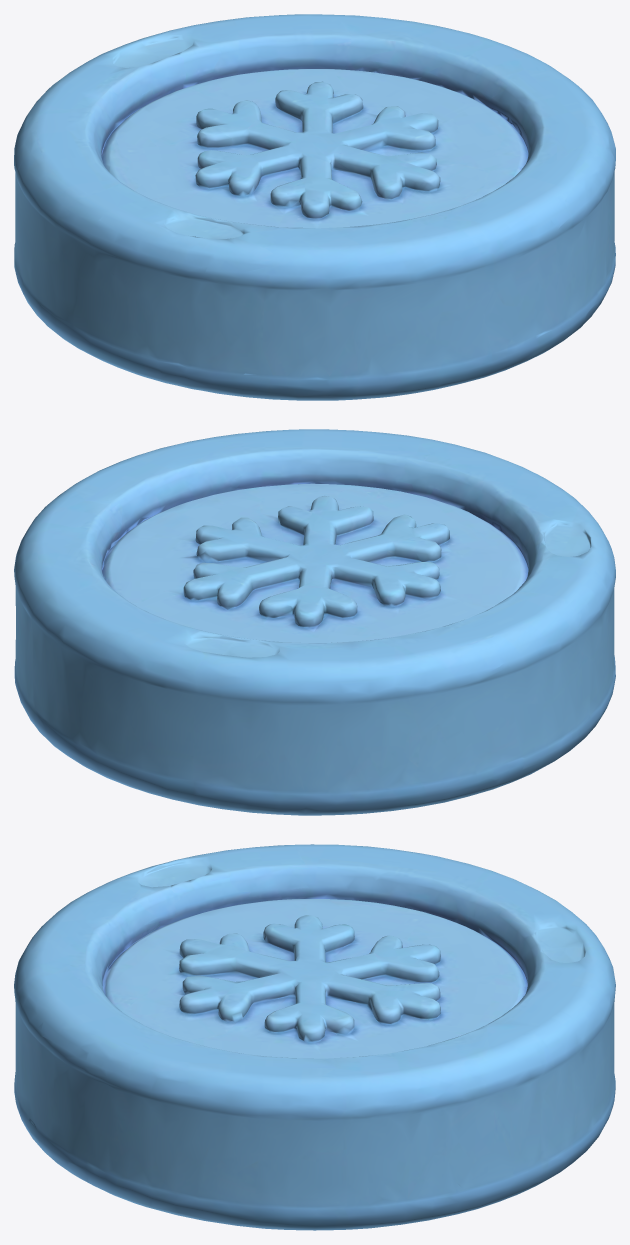
The model's file is puck-snowflake.glb.
The picture shows the model from 3 angles, top to bottom: view 1: azimuth 30°, elevation 25°; view 2: azimuth 150°, elevation 25°; view 3: azimuth 270°, elevation 25°; orthographic projection.
Parts seen in each view (by area): view 1: tripo_node_22e15962-37fa-4f51-b5d6-c7d588227eb2; view 2: tripo_node_22e15962-37fa-4f51-b5d6-c7d588227eb2; view 3: tripo_node_22e15962-37fa-4f51-b5d6-c7d588227eb2.
Boxes of the visible parts, bbox=[...] form: tripo_node_22e15962-37fa-4f51-b5d6-c7d588227eb2: bbox=[14, 14, 615, 400]; tripo_node_22e15962-37fa-4f51-b5d6-c7d588227eb2: bbox=[14, 429, 615, 815]; tripo_node_22e15962-37fa-4f51-b5d6-c7d588227eb2: bbox=[14, 844, 615, 1230].
Size of the model in its own units: 0.9985 by 0.278 by 1.
1 material, 1 textured.
